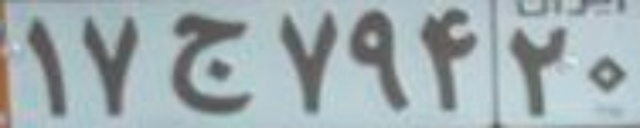0: (580, 55, 626, 93)
1: (22, 17, 69, 115)
2: (505, 23, 569, 116)
4: (416, 5, 484, 112)
7: (279, 9, 344, 115), (81, 13, 142, 118)
9: (350, 9, 414, 114)
jim: (161, 13, 253, 114)
